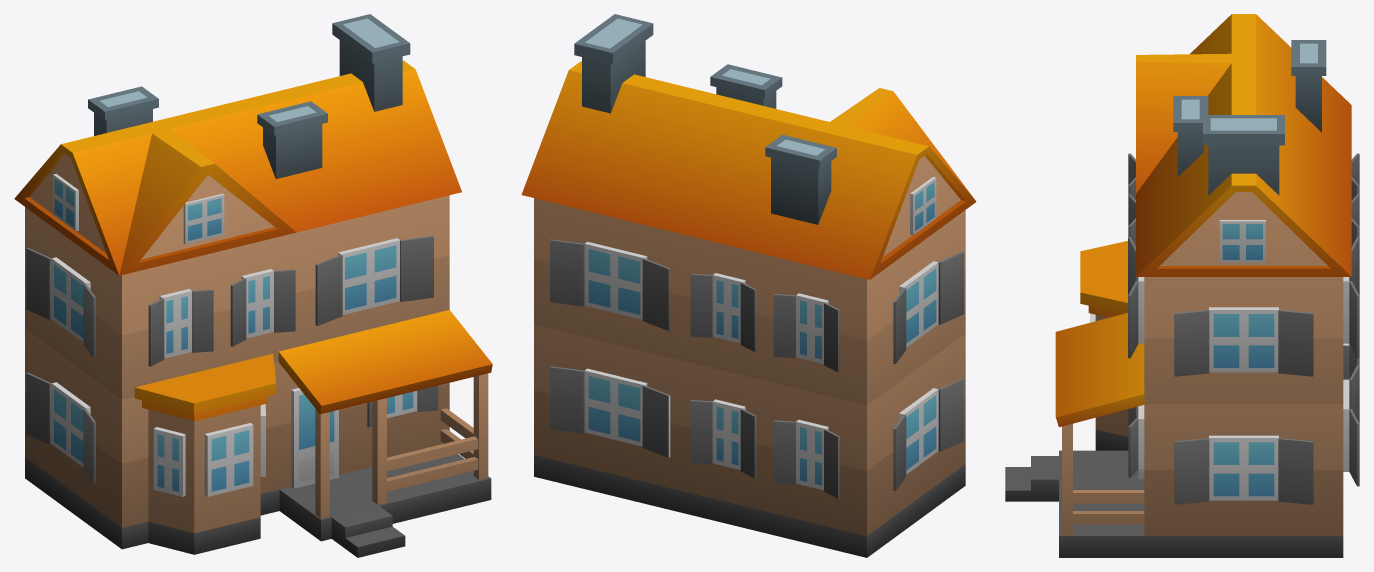
File: two storey house.fbx
3 views of the same model, side by side, from view 1: azimuth 30°, elevation 25°; view 2: azimuth 150°, elevation 25°; view 3: azimuth 270°, elevation 25° (orthographic). The views are drawn at different scales.
Visible parts, largest first — view 1: two_storey_house; view 2: two_storey_house; view 3: two_storey_house.
Part boxes in pixels (x1,y1,x2,y2): two_storey_house: [14, 14, 492, 557]; two_storey_house: [521, 14, 976, 557]; two_storey_house: [1005, 14, 1359, 557].
Size of the model in its own units: 798 by 877 by 673.
1 material, 1 textured.
